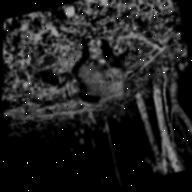boar: (44, 25, 133, 119)
